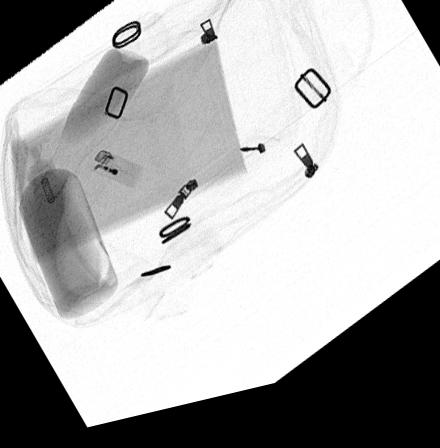Lighter: (92, 154, 143, 195)
